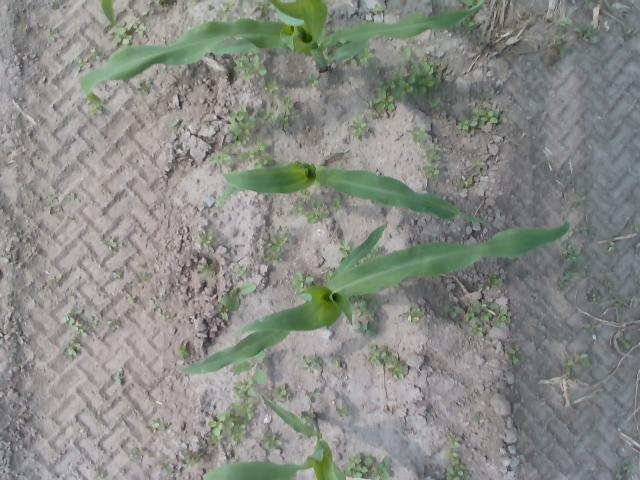Maize: (175, 221, 572, 374), (80, 0, 486, 113), (214, 160, 490, 227), (201, 391, 348, 480)
Weeds: (376, 49, 446, 112), (208, 401, 252, 445), (471, 298, 514, 338), (366, 343, 409, 376), (232, 362, 268, 390), (219, 283, 259, 306), (232, 108, 278, 126), (444, 452, 470, 480), (236, 57, 264, 80), (346, 454, 373, 477), (266, 236, 288, 259), (371, 456, 392, 480), (359, 299, 384, 318), (232, 378, 255, 398), (575, 25, 598, 44), (60, 306, 84, 324), (111, 24, 131, 44), (477, 106, 502, 122), (312, 196, 329, 219), (352, 116, 369, 138), (290, 271, 312, 288), (261, 432, 281, 450), (568, 352, 590, 368), (445, 302, 464, 320), (566, 245, 585, 263), (408, 126, 428, 142), (354, 321, 374, 337), (402, 308, 424, 322), (551, 34, 570, 50), (65, 340, 83, 356), (274, 386, 292, 402), (218, 3, 236, 19), (210, 151, 232, 164), (183, 453, 204, 466), (233, 130, 250, 146), (303, 356, 321, 371), (453, 118, 476, 129), (424, 150, 442, 164), (200, 262, 218, 276), (256, 155, 275, 168), (510, 346, 522, 366), (256, 0, 272, 15), (306, 210, 320, 226), (332, 196, 348, 210), (618, 332, 632, 348), (146, 420, 162, 434), (266, 78, 278, 96), (105, 235, 118, 251), (446, 436, 463, 448), (236, 151, 256, 161), (114, 368, 125, 386), (179, 341, 190, 359), (133, 22, 147, 36), (358, 52, 372, 66), (88, 106, 102, 120), (138, 80, 152, 94), (425, 164, 440, 177), (46, 276, 60, 289), (138, 273, 154, 284), (562, 271, 572, 288), (460, 176, 474, 188), (558, 16, 572, 28), (332, 406, 348, 416), (235, 265, 248, 277), (108, 318, 121, 330), (281, 98, 292, 112), (331, 356, 345, 367), (579, 223, 590, 237), (218, 311, 232, 322), (132, 448, 142, 463), (128, 294, 140, 306), (575, 193, 588, 204), (282, 112, 292, 126), (292, 197, 302, 211), (200, 235, 214, 245), (310, 388, 320, 402), (76, 326, 88, 337), (608, 240, 619, 252), (256, 142, 267, 153), (591, 292, 601, 304), (476, 160, 486, 171), (486, 276, 496, 286), (48, 32, 59, 41), (113, 270, 122, 280), (462, 19, 472, 28), (310, 80, 318, 90), (622, 461, 629, 472), (632, 223, 638, 232), (616, 472, 622, 480)
